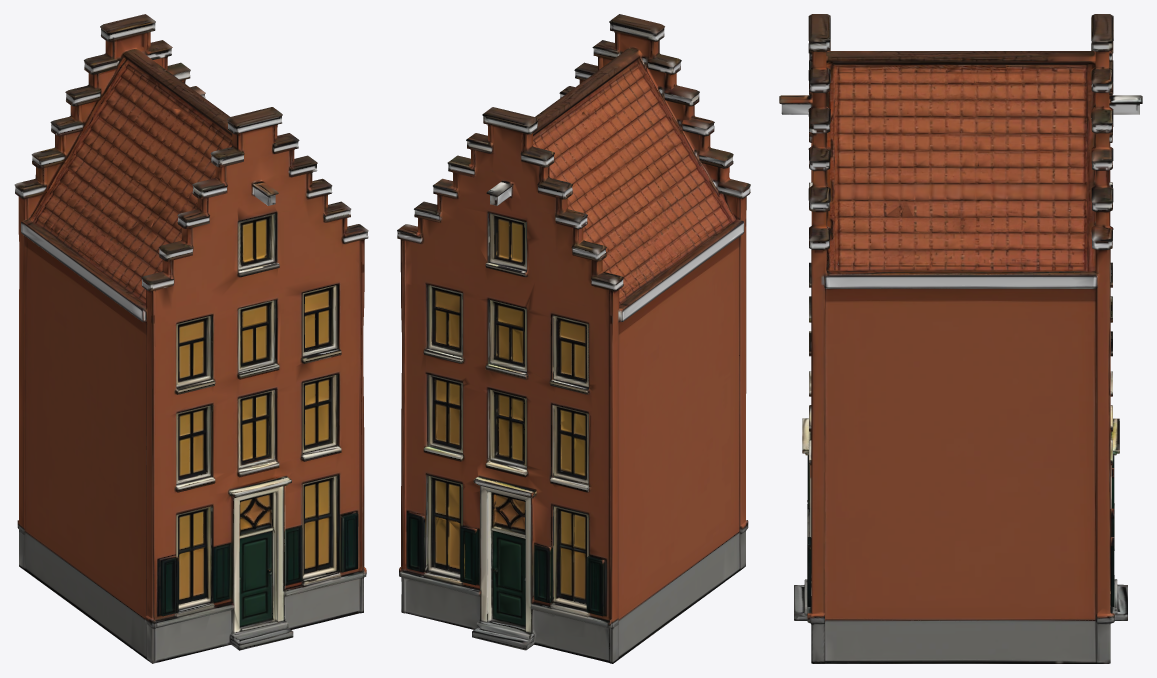
File: townhouse_b_0.glb
The picture shows the model from 3 angles, left to right: view 1: azimuth 30°, elevation 25°; view 2: azimuth 150°, elevation 25°; view 3: azimuth 270°, elevation 25°; orthographic projection. The views are drawn at different scales.
Parts seen in each view (by area): view 1: node_0; view 2: node_0; view 3: node_0.
Boxes of the visible parts, bbox=[...] form: node_0: bbox=[14, 14, 368, 663]; node_0: bbox=[397, 14, 750, 663]; node_0: bbox=[779, 14, 1142, 663].
Bounding box in the file's own units: 0.4484 × 1.02 × 0.5758.
Materials: 1 (1 with a texture image).
